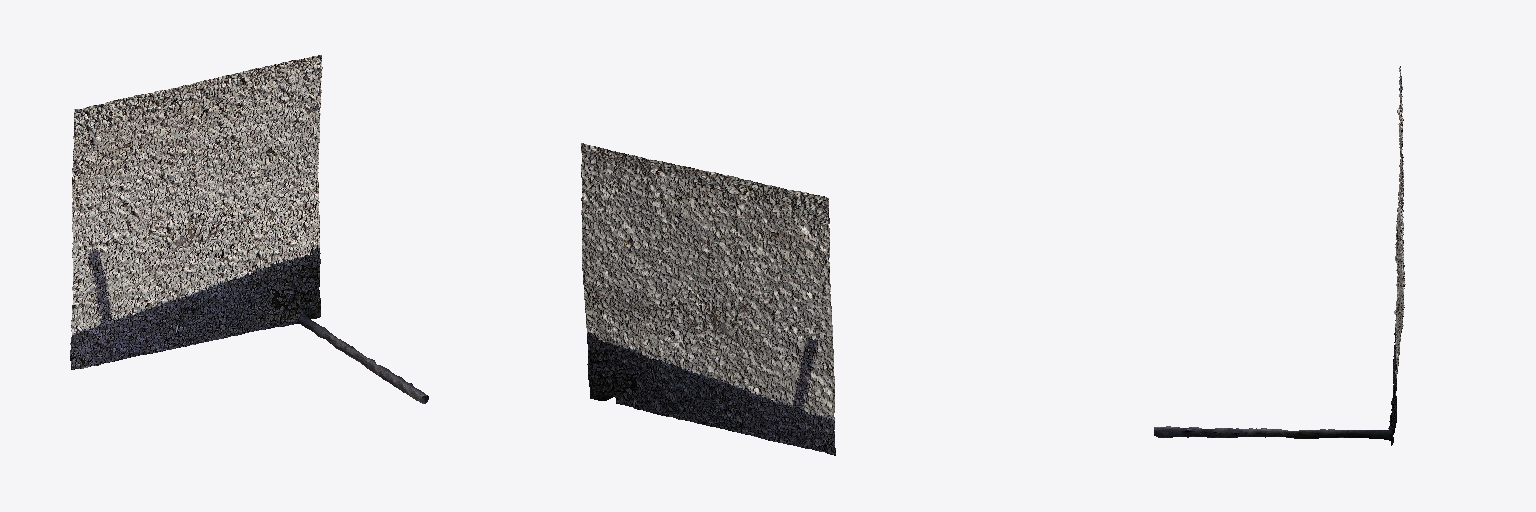
3 renders of one model, left to right at view 1: azimuth 30°, elevation 25°; view 2: azimuth 150°, elevation 25°; view 3: azimuth 270°, elevation 25°, orthographic.
Size of the model in its own units: 1.98 by 1.97 by 1.7.
2 materials, 1 textured.